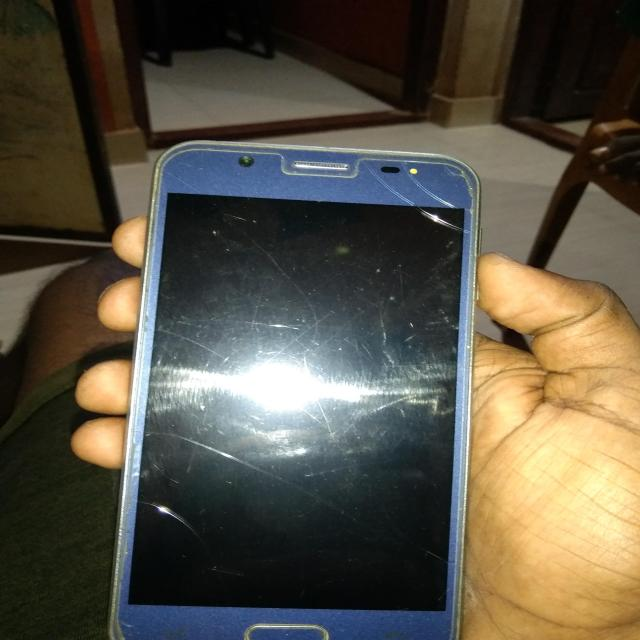mobile: (107, 142, 482, 640)
